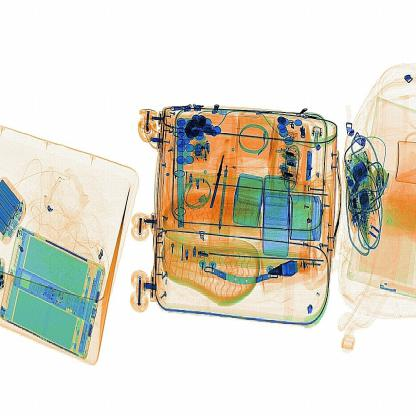gun: (207, 134, 228, 206)
